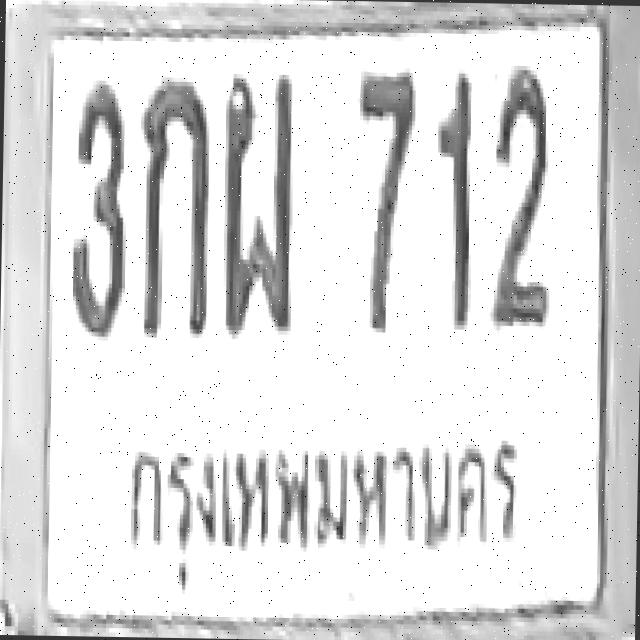1: (431, 70, 474, 322)
10GorGai: (137, 74, 210, 336)
2: (489, 64, 553, 330)
3: (64, 75, 128, 336)
37PhorPhueng: (218, 69, 295, 335)
7: (352, 69, 416, 330)
Bangkok: (112, 414, 530, 600)
